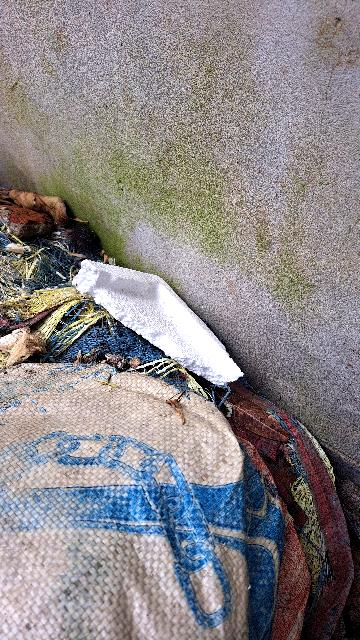cocksheet: (48, 220, 277, 404)
